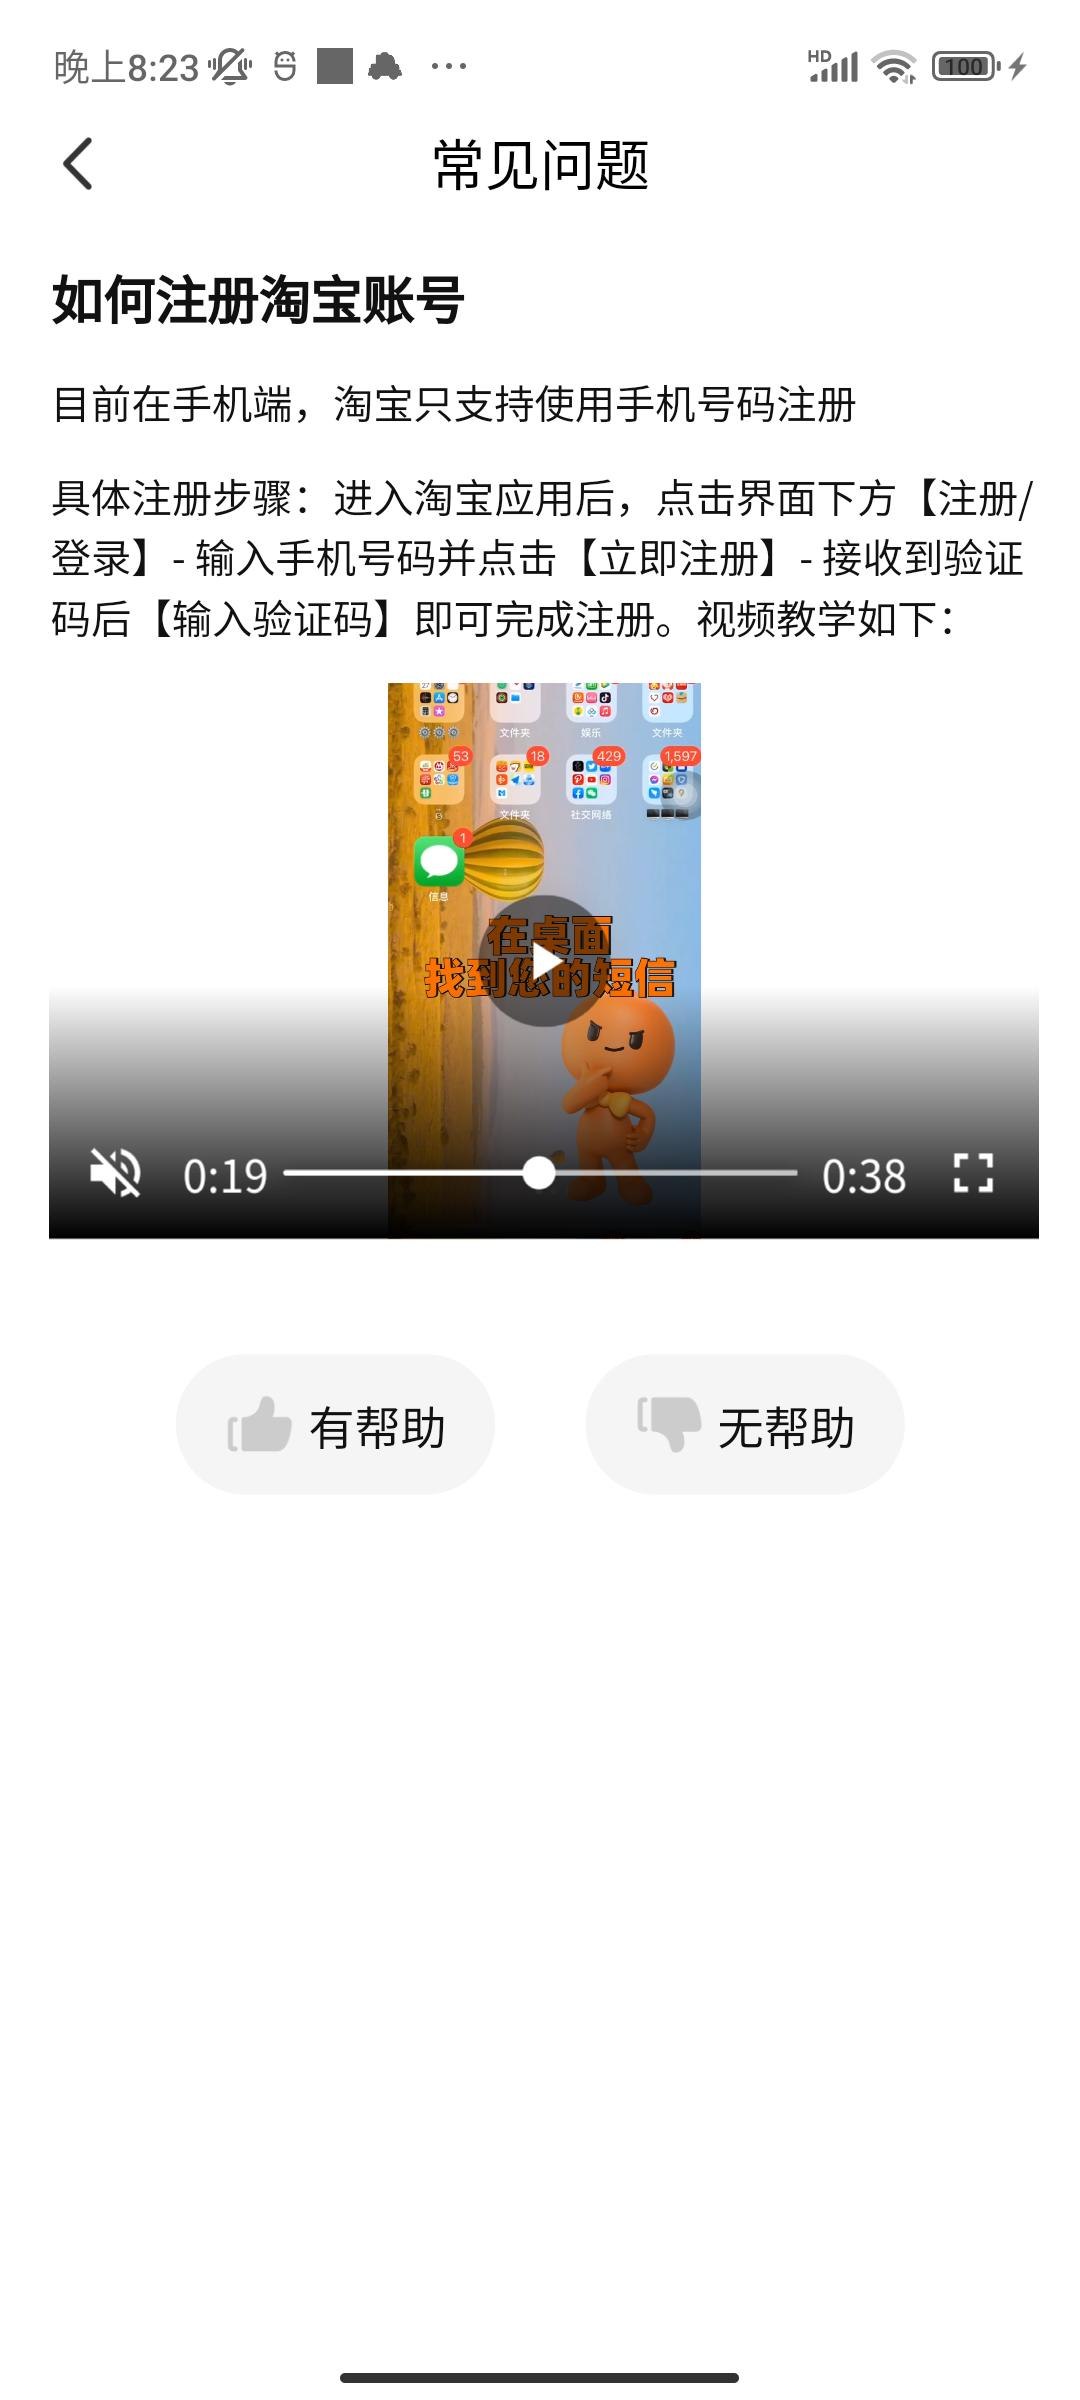ui_group: (583, 1361, 899, 1502), (188, 1353, 477, 1488)
